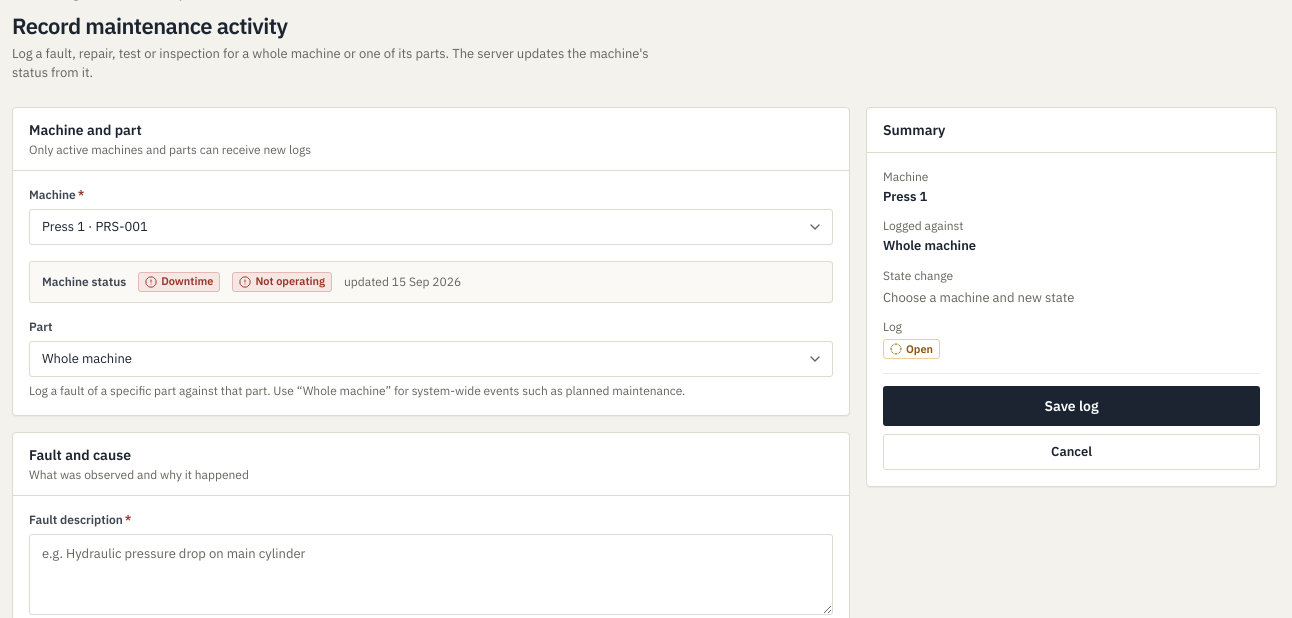
Test case: Record maintenance activity › whole-machine events › explains a conflict when another technician changed the machine first
Check: the text "Machine status" is shown, box x1=42 y1=274 x2=126 y2=290
Type "Seal replacement" into the text box labelled "Fault description" at (431, 574), box x1=29 y1=534 x2=833 y2=615
(page scrolled)
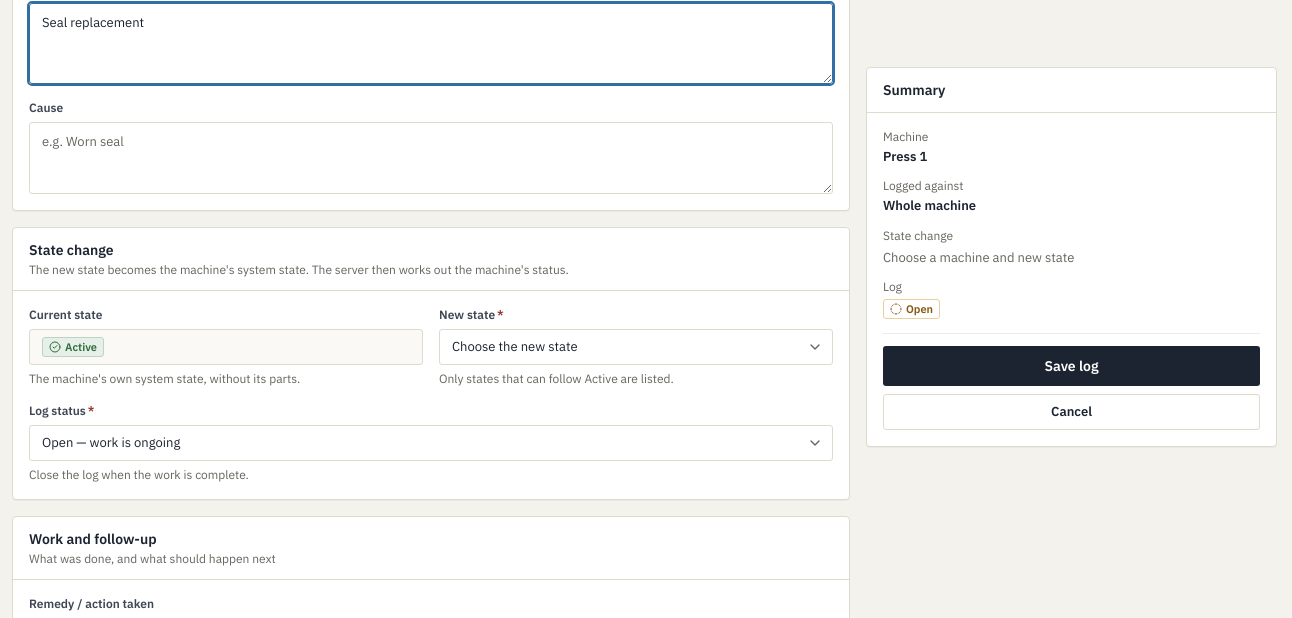
Select "Downtime" in the dropdown labelled "New state" at (636, 347), box x1=439 y1=329 x2=833 y2=365
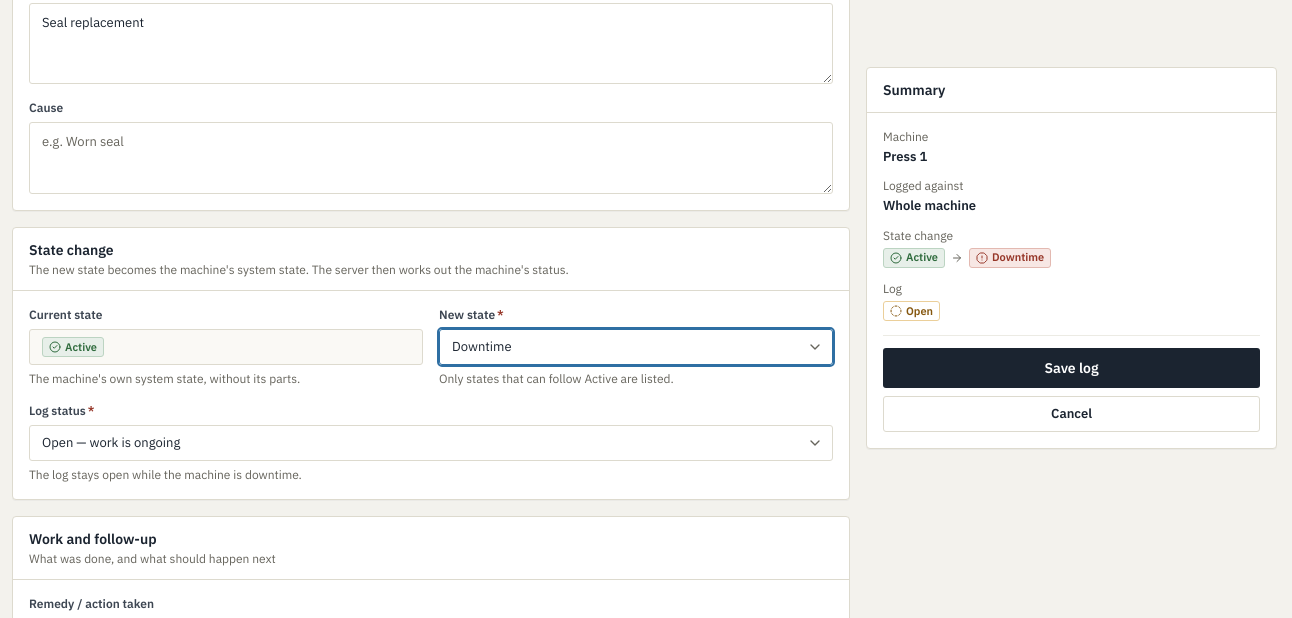
Click the button "Save log" at (1072, 367), box x1=883 y1=347 x2=1260 y2=387
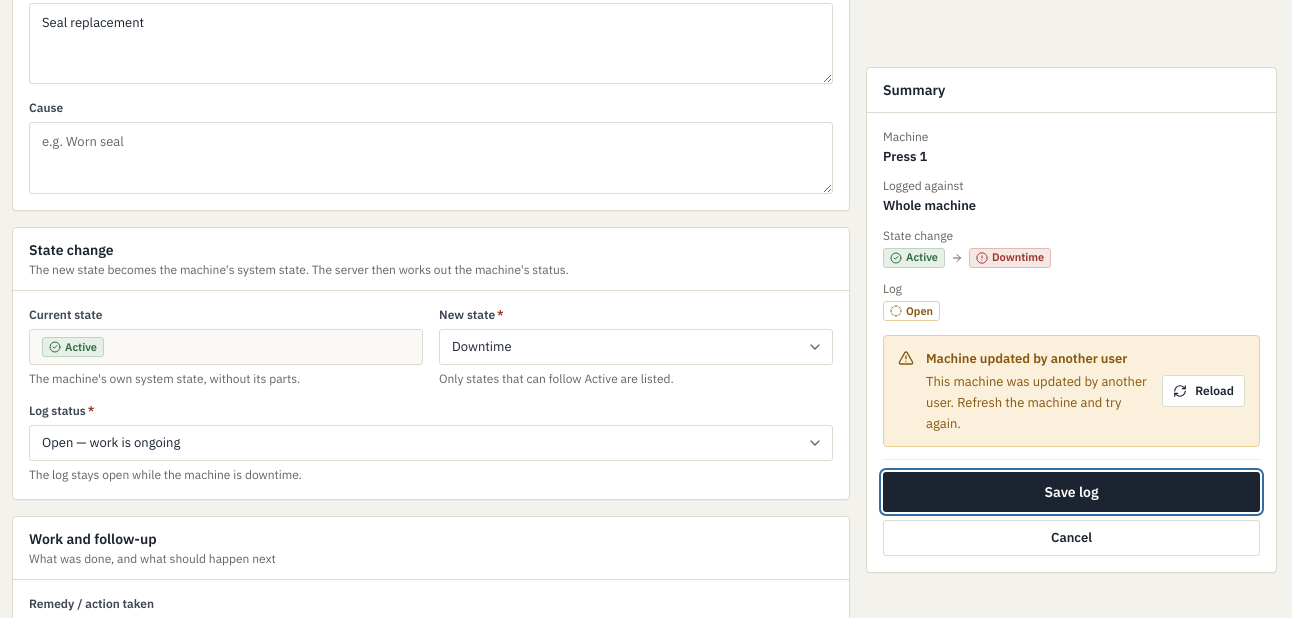
Check: the text "Machine updated by another user" is shown, box x1=926 y1=347 x2=1150 y2=368
Check: the text "This machine was updated by another user. Refresh the machine and try again." is shown, box x1=926 y1=370 x2=1150 y2=434
Check: the button "Reload" is shown, box x1=1162 y1=374 x2=1245 y2=406
